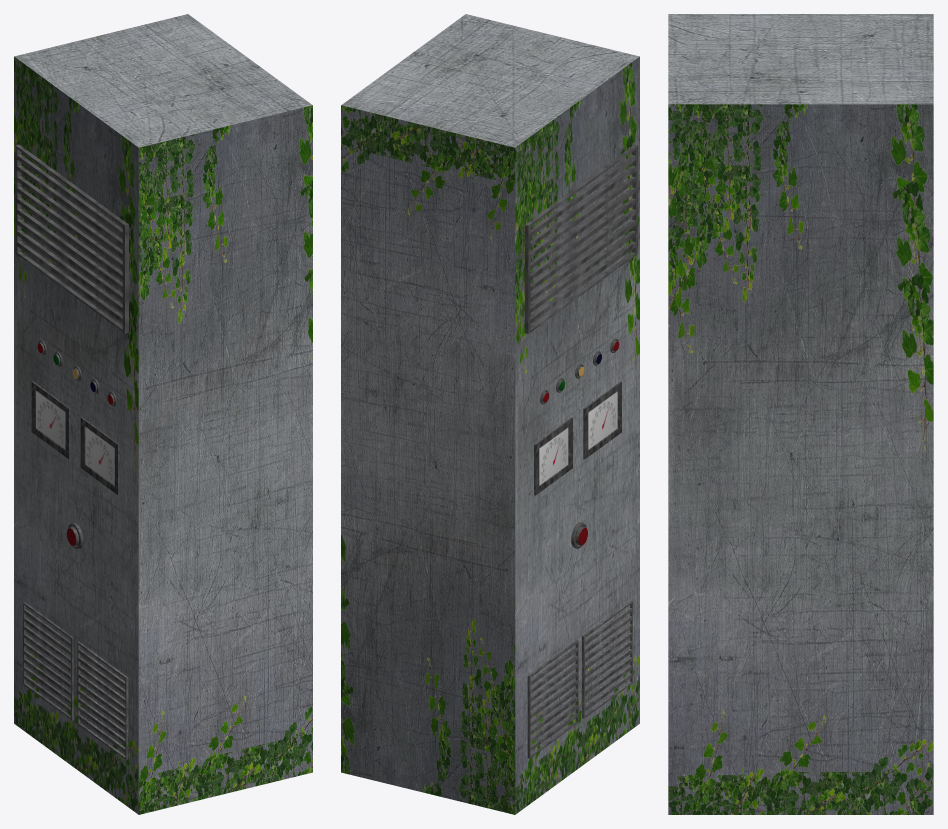
Rendered from gen2.fbx.
3 renders of one model, left to right at view 1: azimuth 30°, elevation 25°; view 2: azimuth 150°, elevation 25°; view 3: azimuth 270°, elevation 25°, orthographic. The views are drawn at different scales.
Visible parts, largest first — view 1: pCube59, pasted__pPlane48, pasted__pPlane50, pasted__pPlane49, pCube62, pCube61; view 2: pCube59, pasted__pPlane48, pasted__pPlane49, pasted__pPlane50, pCube61, pCube62; view 3: pCube59.
Boxes of the visible parts, bbox=[...] form: pCube59: bbox=[14, 14, 312, 814]; pasted__pPlane48: bbox=[15, 144, 128, 333]; pasted__pPlane50: bbox=[77, 641, 128, 759]; pasted__pPlane49: bbox=[23, 602, 73, 720]; pCube62: bbox=[80, 417, 119, 495]; pCube61: bbox=[31, 381, 70, 459]; pCube59: bbox=[341, 14, 639, 814]; pasted__pPlane48: bbox=[524, 144, 638, 333]; pasted__pPlane49: bbox=[527, 640, 578, 758]; pasted__pPlane50: bbox=[582, 600, 632, 718]; pCube61: bbox=[534, 417, 572, 495]; pCube62: bbox=[583, 381, 621, 459]; pCube59: bbox=[668, 14, 933, 814].
Size of the model in its own units: 78.98 by 279 by 94.69.
